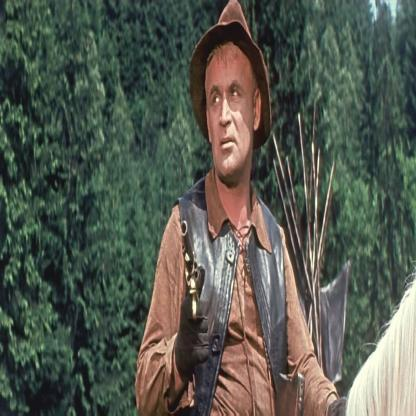gun: (172, 216, 207, 314)
